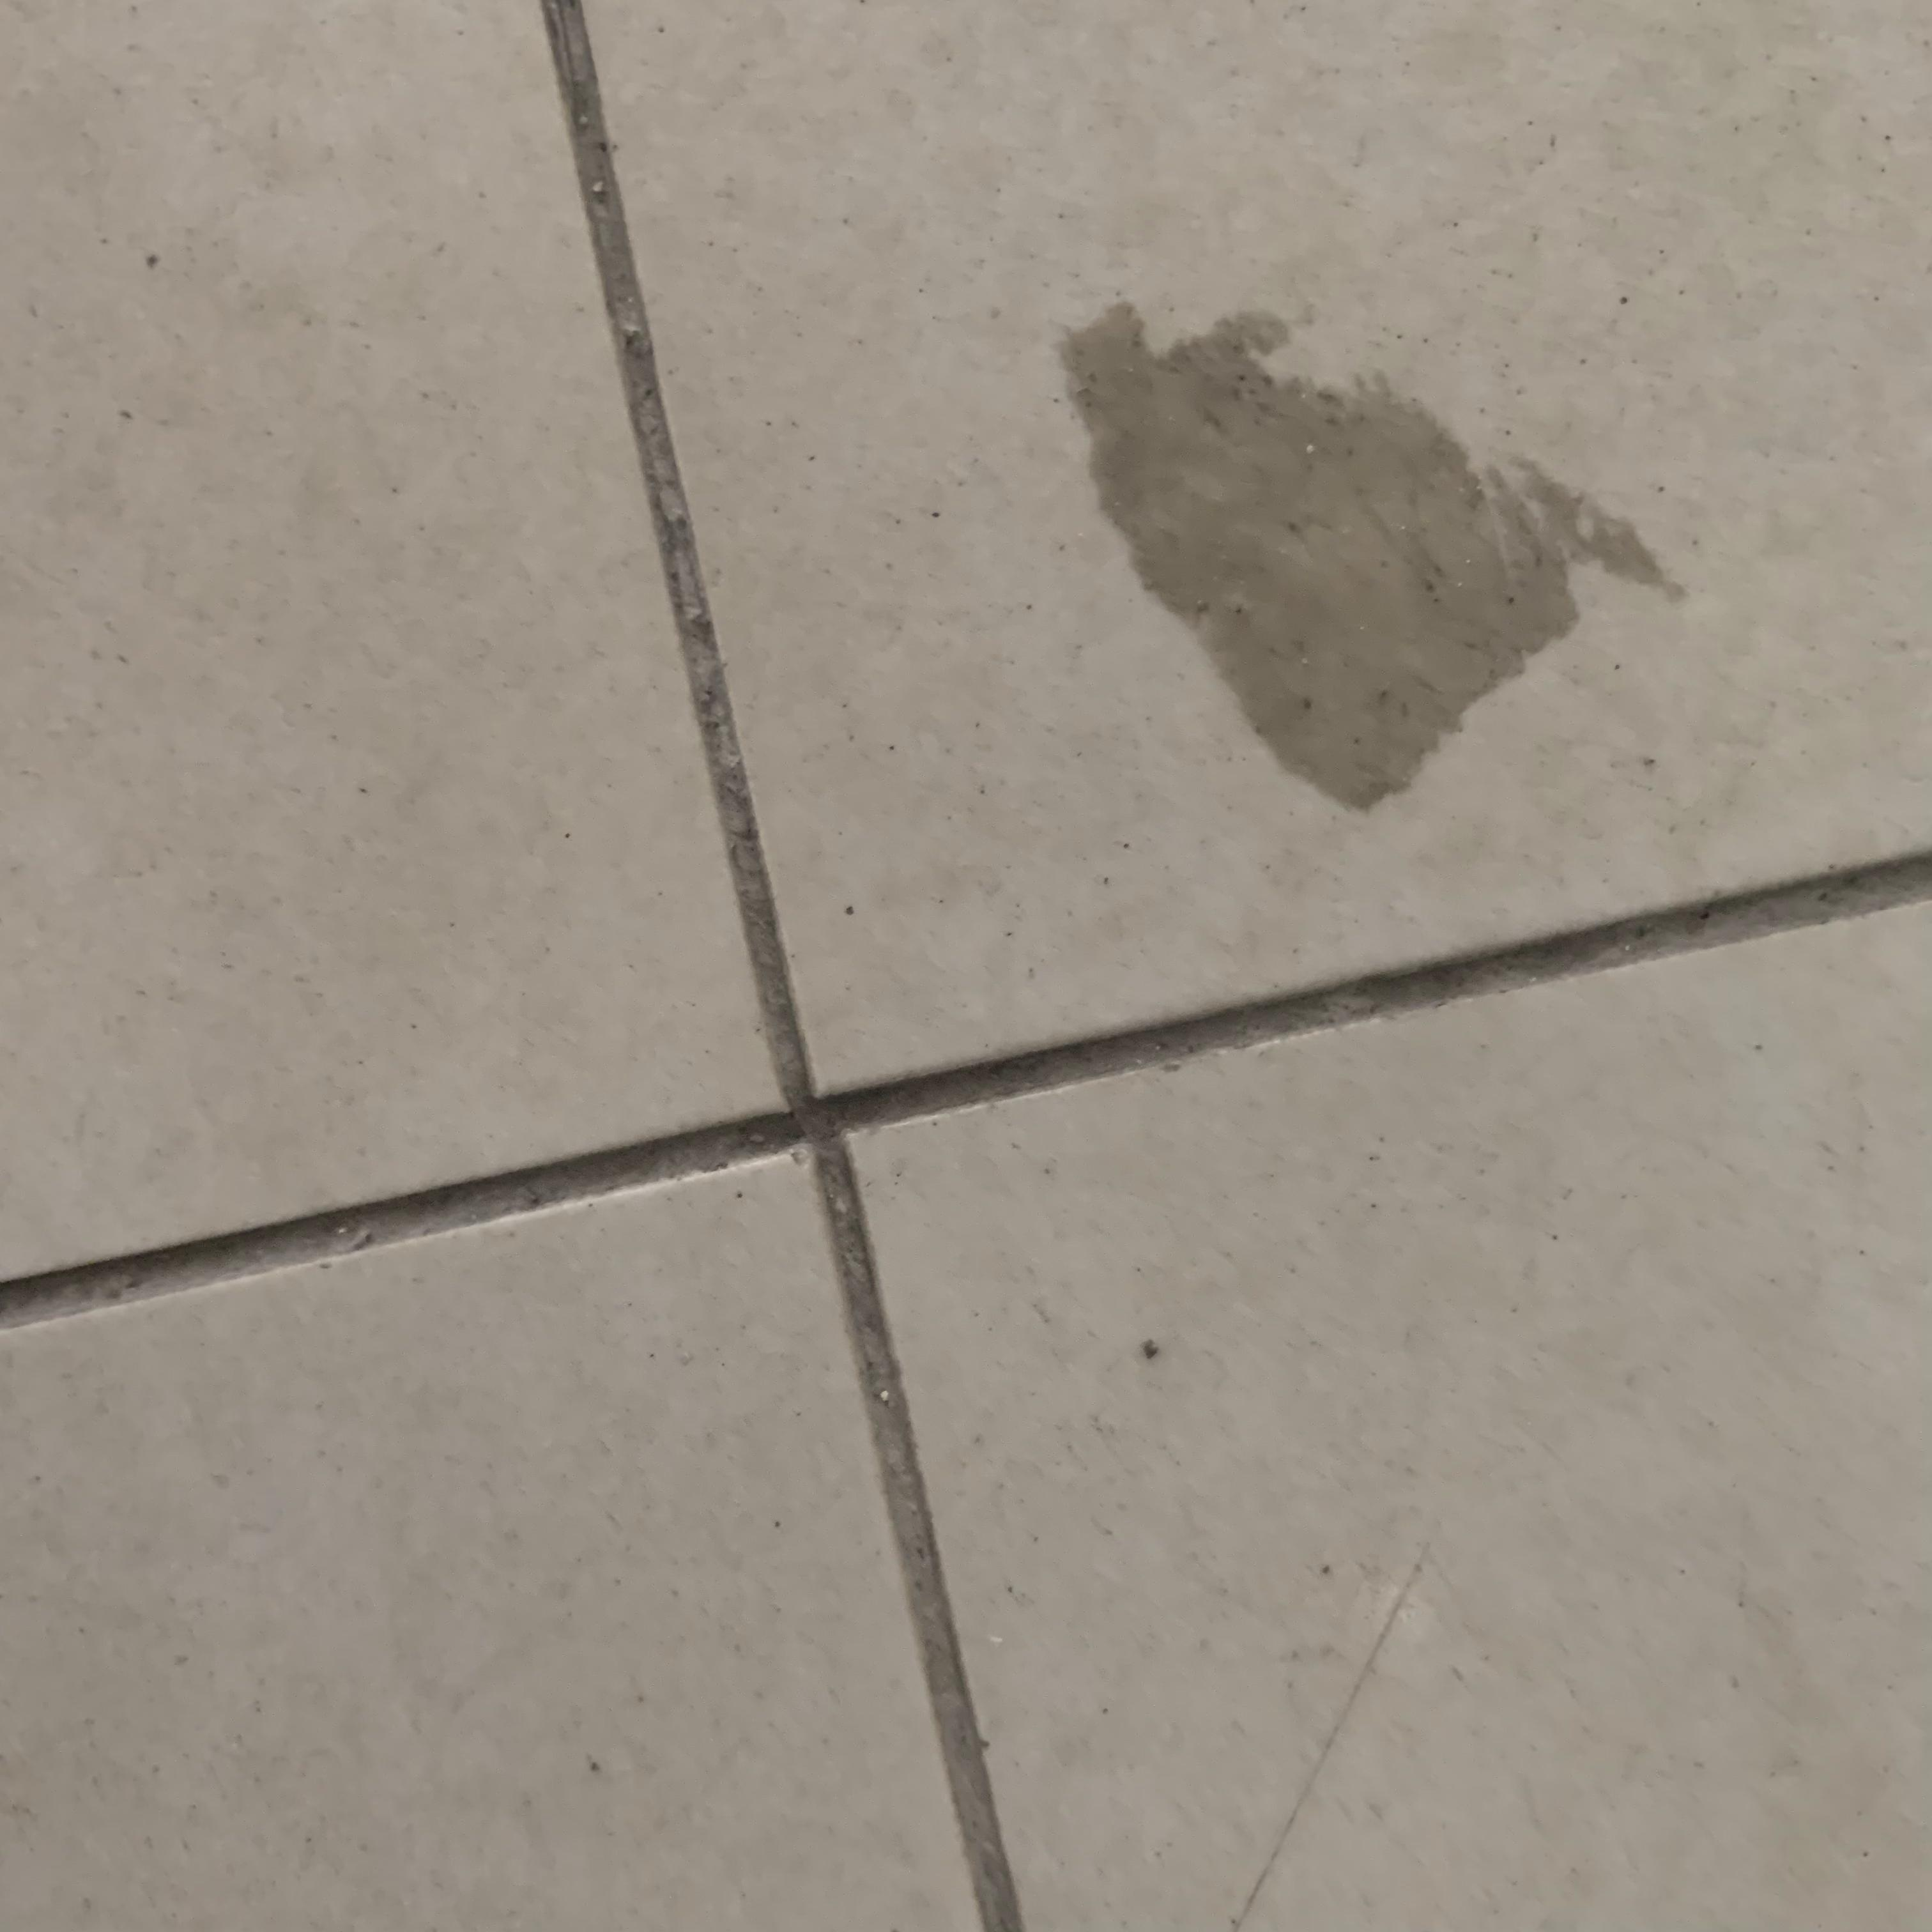grey spot: (1049, 299, 1690, 809)
